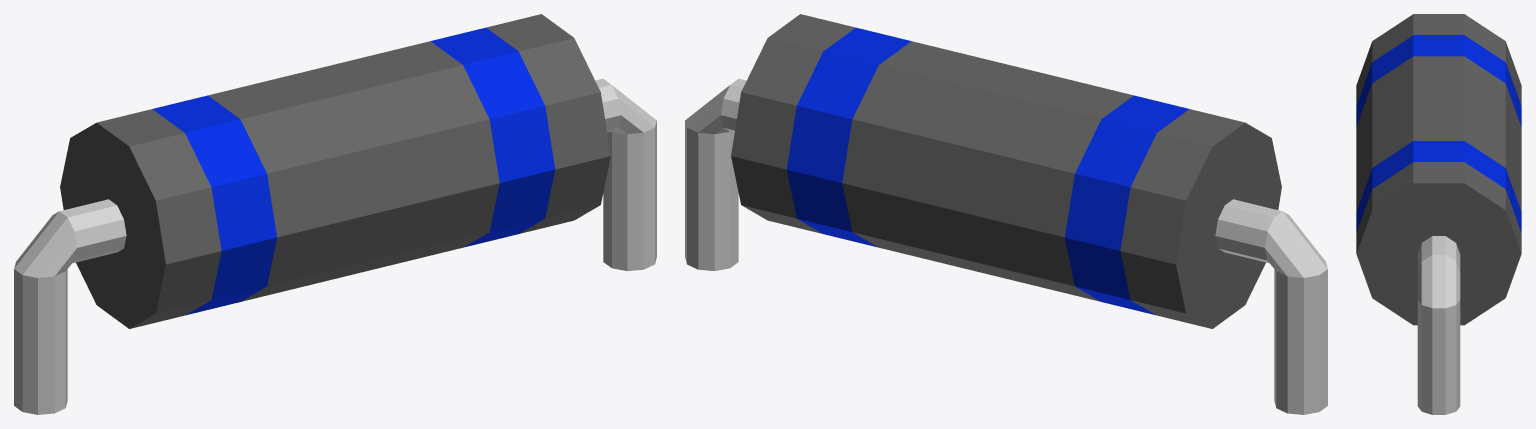
File: TransBlue.fbx
3 renders of one model, left to right at view 1: azimuth 30°, elevation 25°; view 2: azimuth 150°, elevation 25°; view 3: azimuth 270°, elevation 25°, orthographic. The views are drawn at different scales.
Parts seen in each view (by area): view 1: Cylinder; view 2: Cylinder; view 3: Cylinder.
Part boxes in pixels (x1,y1,x2,y2): Cylinder: (14, 14, 656, 414); Cylinder: (685, 14, 1327, 414); Cylinder: (1356, 14, 1521, 414).
Bounding box in the file's own units: 202 × 76.52 × 58.44.
